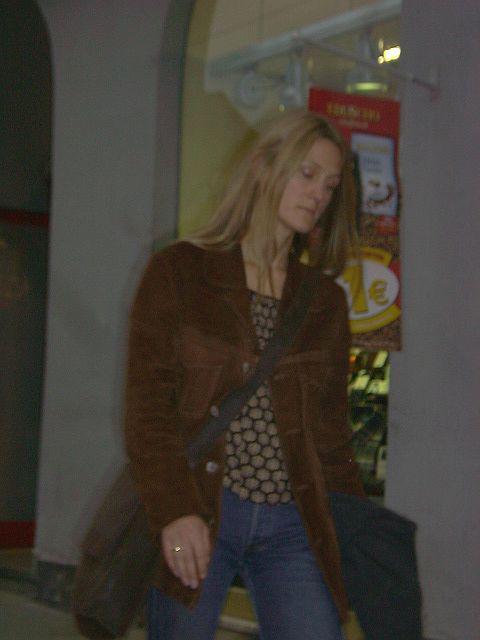Person: (126, 116, 359, 640)
